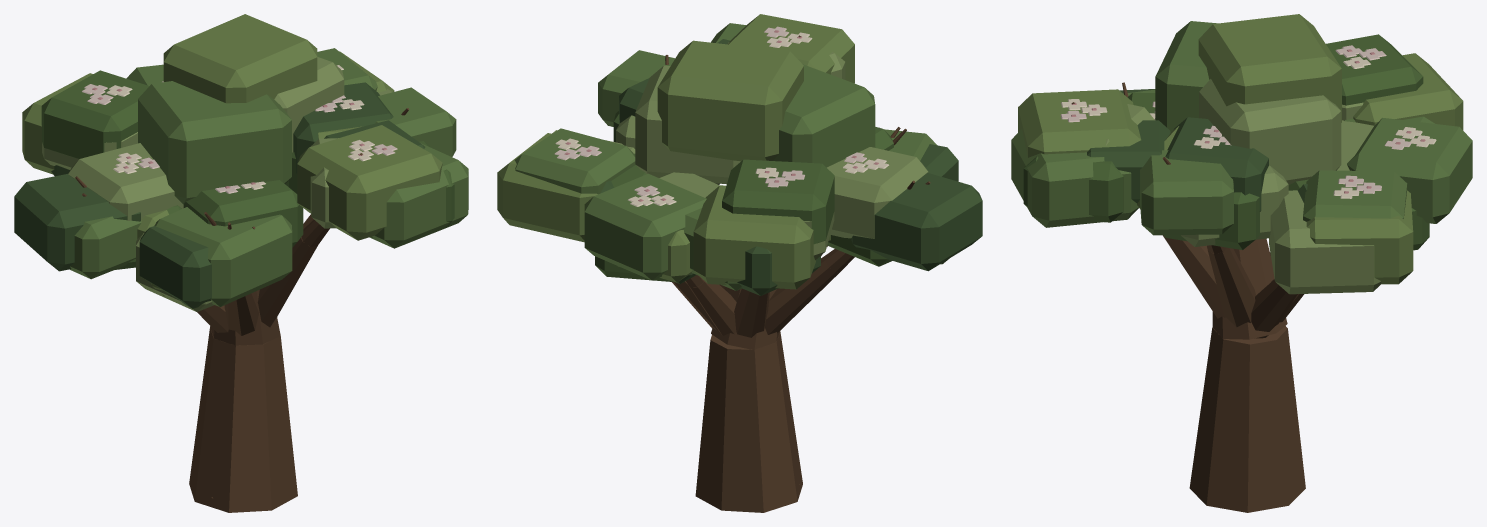
Rendered from apple_mature_spring_3.glb.
3 views of the same model, side by side, from view 1: azimuth 30°, elevation 25°; view 2: azimuth 150°, elevation 25°; view 3: azimuth 270°, elevation 25° (orthographic). The views are drawn at different scales.
Parts seen in each view (by area): view 1: apple_mature_spring_3; view 2: apple_mature_spring_3; view 3: apple_mature_spring_3.
Boxes of the visible parts, x1=… form: apple_mature_spring_3: x1=14, y1=14, x2=468, y2=512; apple_mature_spring_3: x1=497, y1=14, x2=982, y2=512; apple_mature_spring_3: x1=1011, y1=14, x2=1472, y2=512.
Size of the model in its own units: 11.57 by 12 by 11.1.
